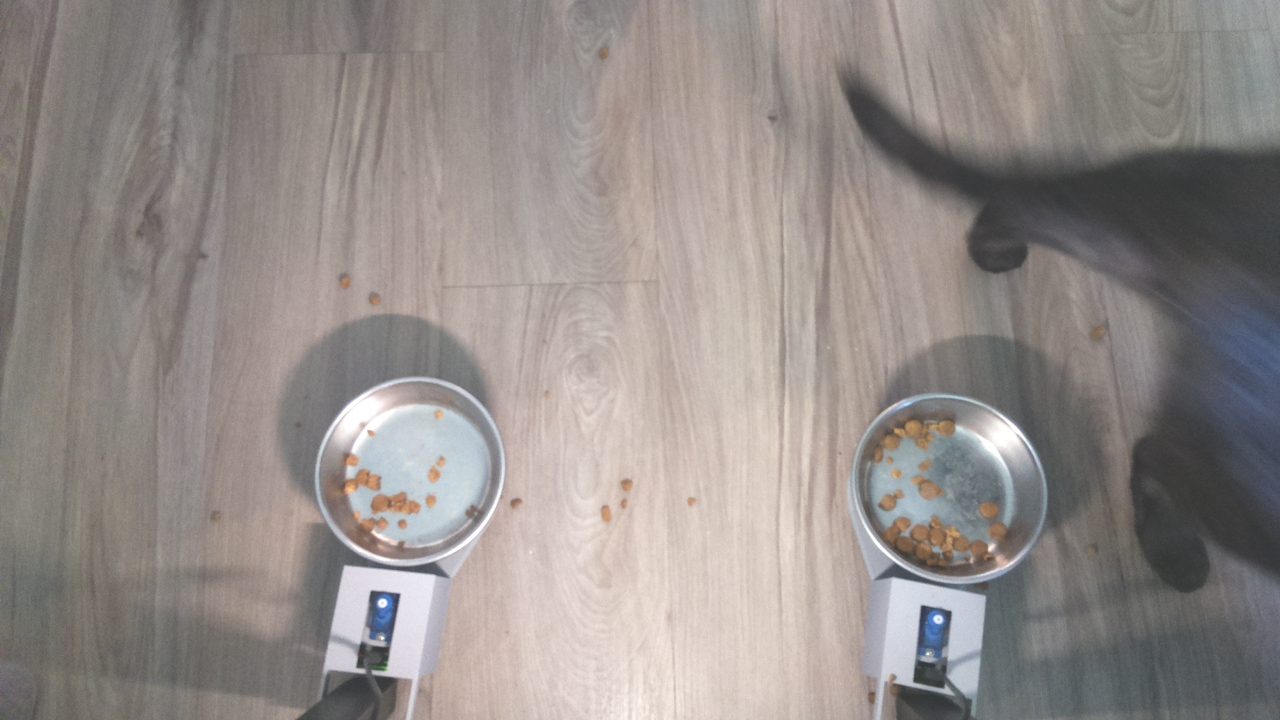open_bowl: (307, 372, 511, 569), (849, 390, 1052, 586)
